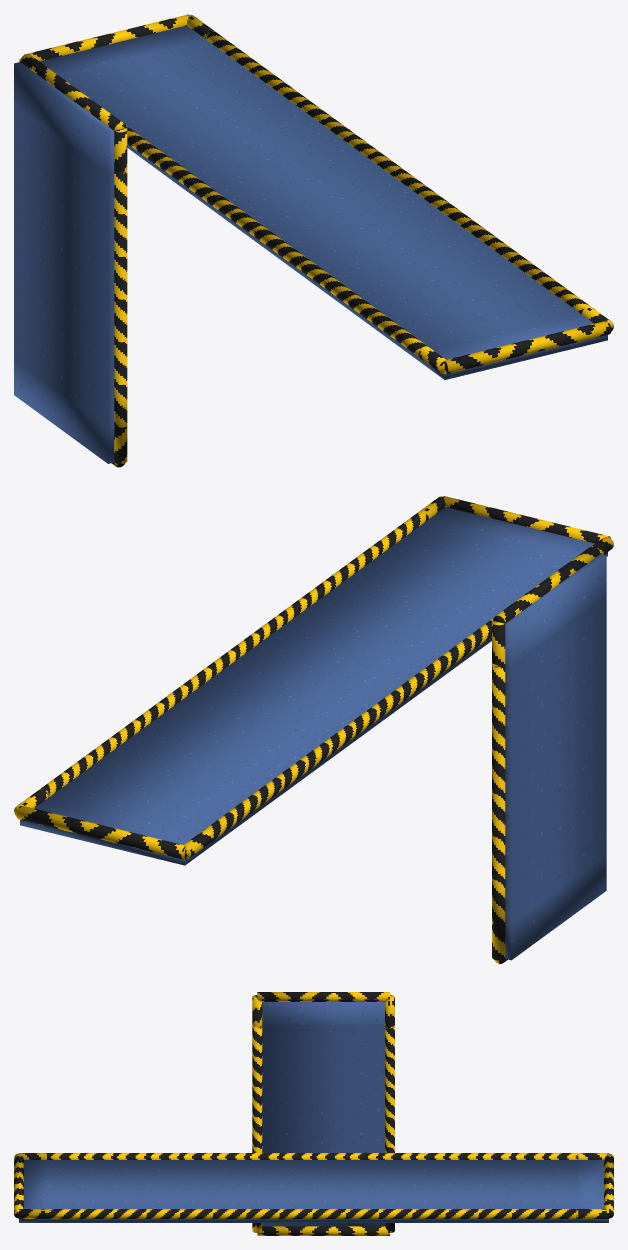
Rendered from GregBallGaranL2.fbx.
3 views of the same model, one above another, from view 1: azimuth 30°, elevation 25°; view 2: azimuth 150°, elevation 25°; view 3: azimuth 270°, elevation 25° (orthographic). The views are drawn at different scales.
Parts seen in each view (by area): view 1: Cube, Cube.007; view 2: Cube, Cube.007; view 3: Cube, Cube.007.
Boxes of the visible parts, x1,y1,x2,y2 form: Cube: (24,14,613,379); Cube.007: (14,54,127,467); Cube: (14,496,613,865); Cube.007: (492,546,606,963); Cube: (14,1153,613,1222); Cube.007: (252,992,394,1235).
Size of the model in its own units: 1653 by 1614 by 3615.
